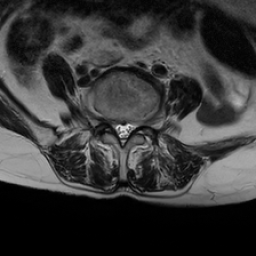CCS_normal: (118, 112, 126, 152)
LFS_normal: (134, 109, 144, 138)
LLS_normal: (126, 115, 134, 138)
RFS_severe_stenosis: (104, 108, 112, 134)
RLS_stenosis: (112, 113, 120, 140)
